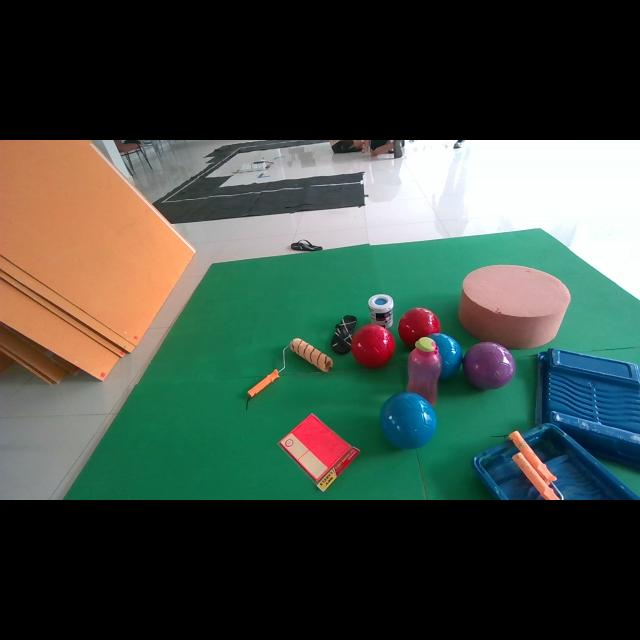B: (380, 391, 438, 449), (429, 334, 462, 378)
P: (462, 341, 515, 390)
R: (351, 324, 395, 368), (398, 308, 441, 347)
